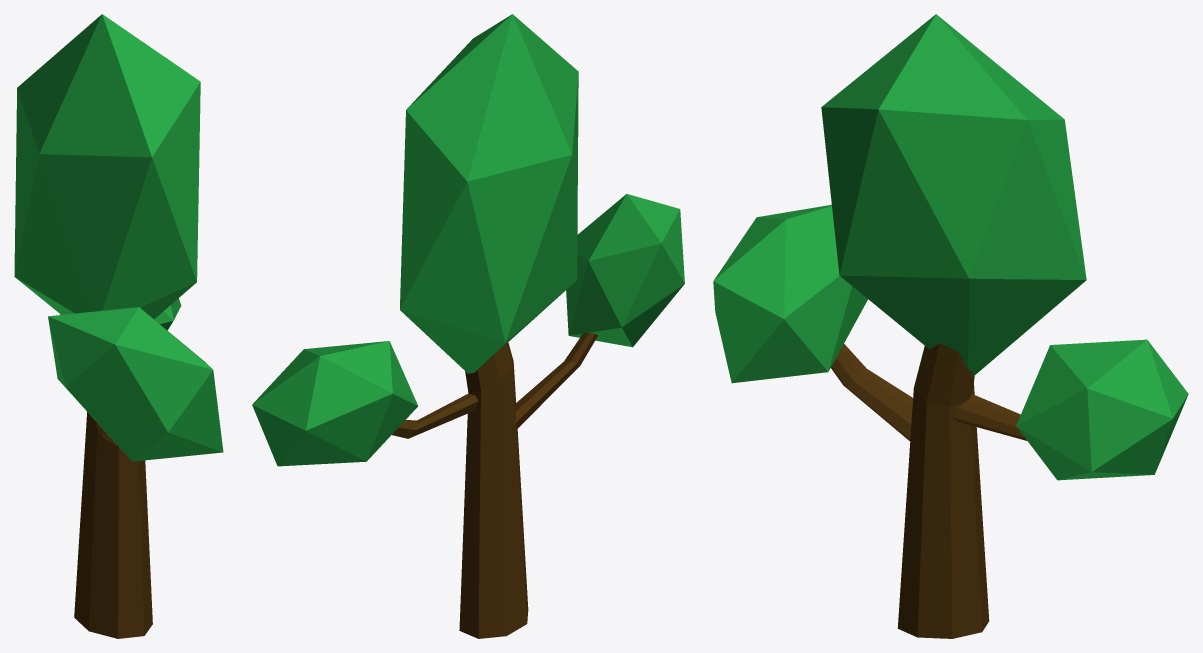
File: tree010.fbx
The picture shows the model from 3 angles, left to right: view 1: azimuth 30°, elevation 25°; view 2: azimuth 150°, elevation 25°; view 3: azimuth 270°, elevation 25°; orthographic projection.
Visible parts, largest first — view 1: Icosphere.010; view 2: Icosphere.010; view 3: Icosphere.010.
Boxes of the visible parts, left/top/right/bottom form: Icosphere.010: left=14, top=14, right=223, bottom=638; Icosphere.010: left=252, top=14, right=684, bottom=638; Icosphere.010: left=713, top=14, right=1188, bottom=638.
Size of the model in its own units: 639 by 1422 by 1015.
